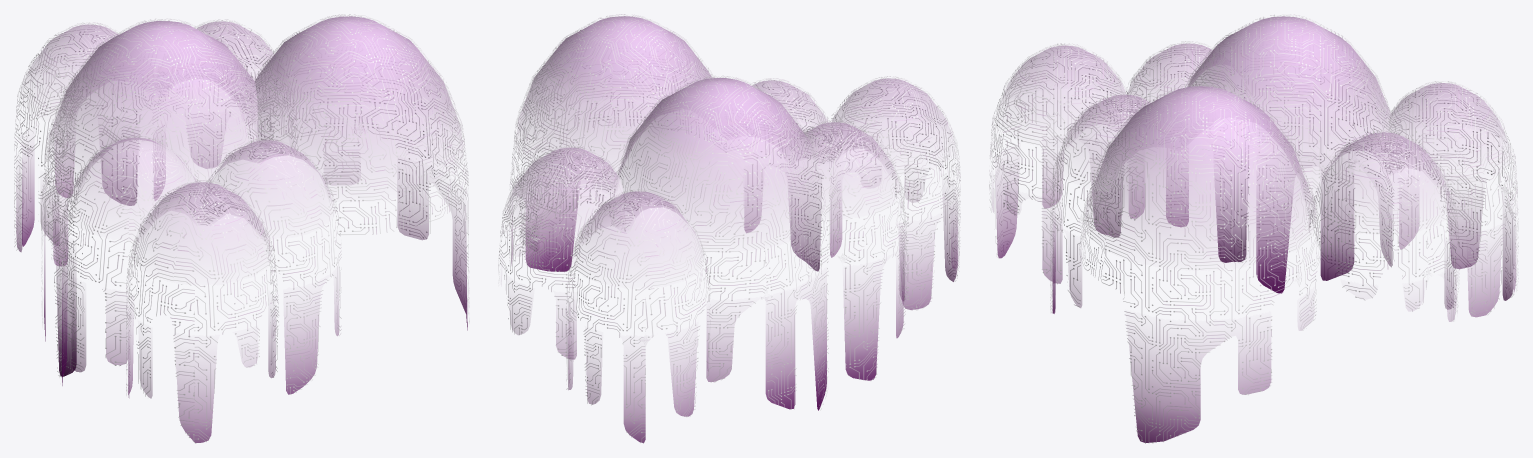
Rendered from dome04-art.glb.
3 views of the same model, side by side, from view 1: azimuth 30°, elevation 25°; view 2: azimuth 150°, elevation 25°; view 3: azimuth 270°, elevation 25° (orthographic). The views are drawn at different scales.
Parts seen in each view (by area): view 1: Dome04_Art; view 2: Dome04_Art; view 3: Dome04_Art.
Part boxes in pixels (box(x1,y1,x2,y2)): Dome04_Art: box(14, 14, 469, 443); Dome04_Art: box(498, 14, 960, 443); Dome04_Art: box(989, 14, 1518, 443).
Size of the model in its own units: 37.09 by 29.3 by 43.68.
2 materials, 2 textured.
